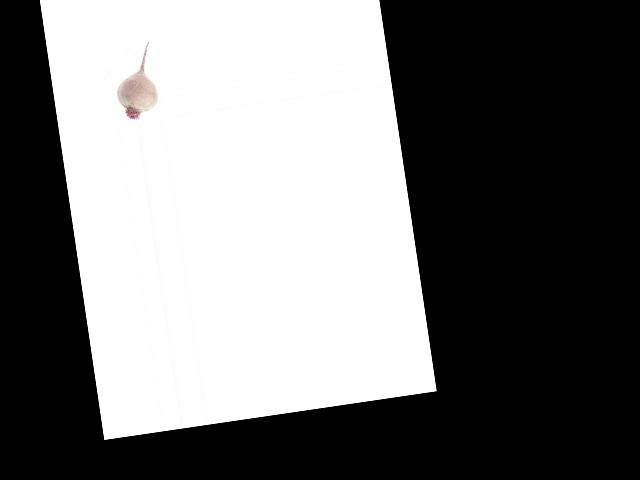beet: (108, 41, 160, 121)
